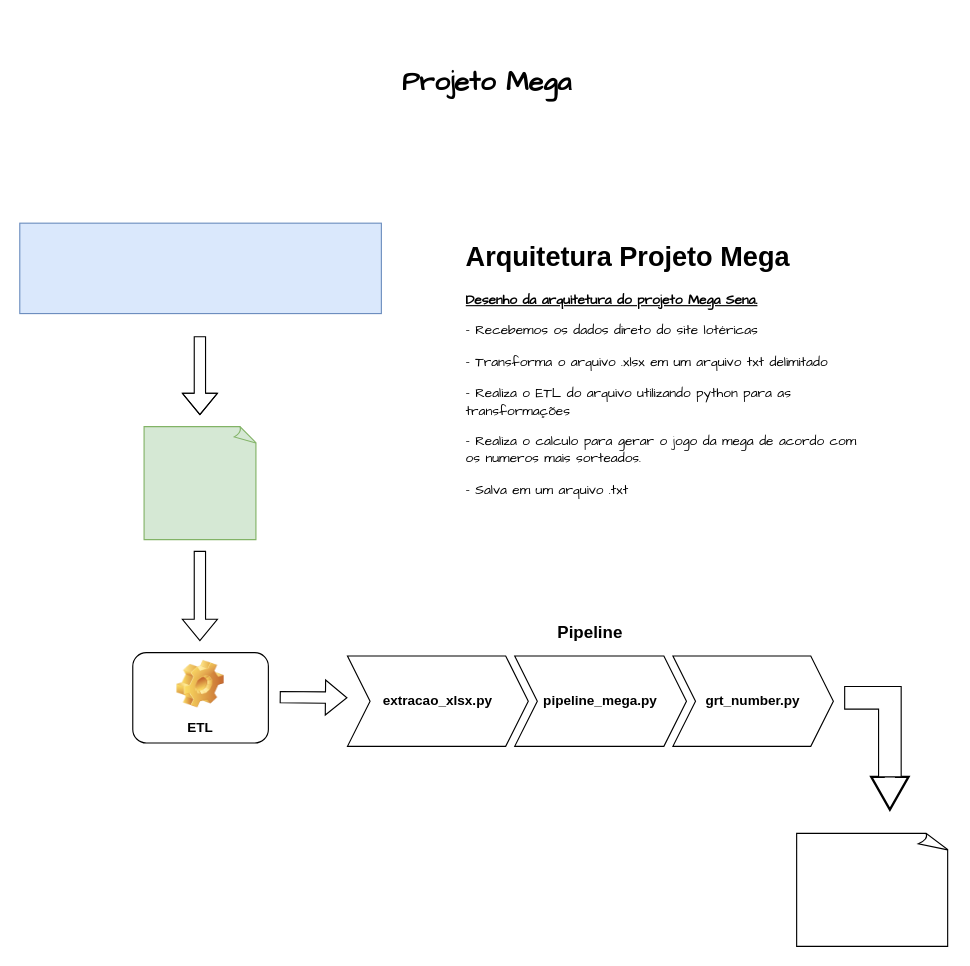
Image size: 970x966. Some labels were removed from this diagram. Here are the shapes that lost their labels. From the top down, the centre of each, then its label:
the point at 200,268: Fonte do arquivo xlsx (https://loterias.caixa.gov.br/Paginas/Mega-Sena.aspx)
the point at 200,482: Mega-Sena.xlsx
the point at 872,889: Arquivo final com os numeros a serem jogados
